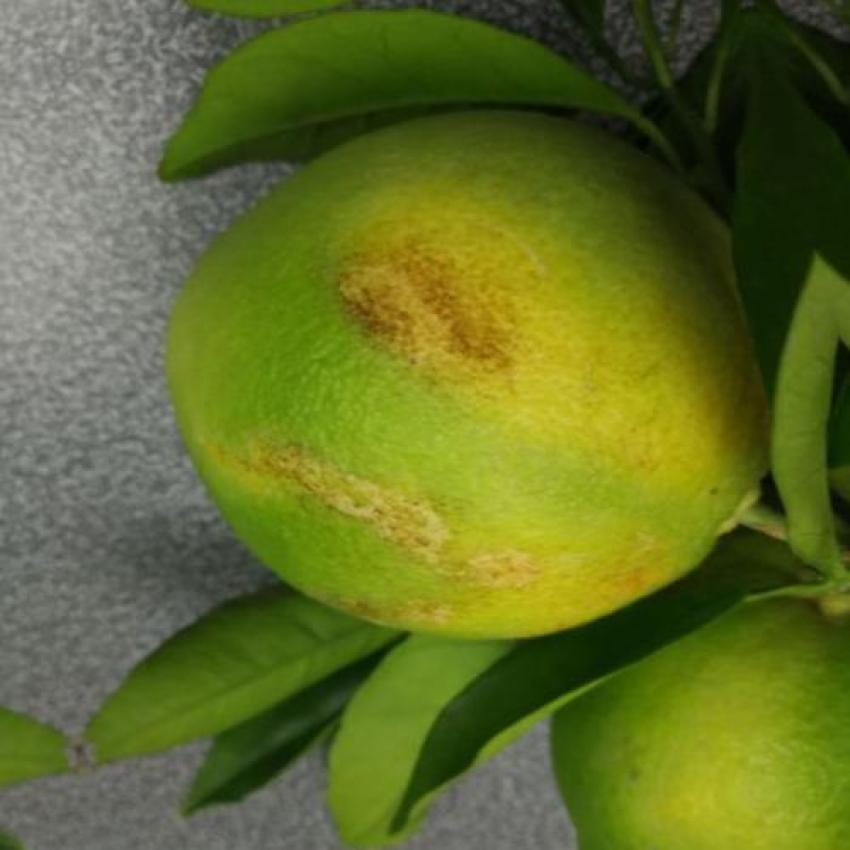Mal estado: (145, 118, 764, 647)
